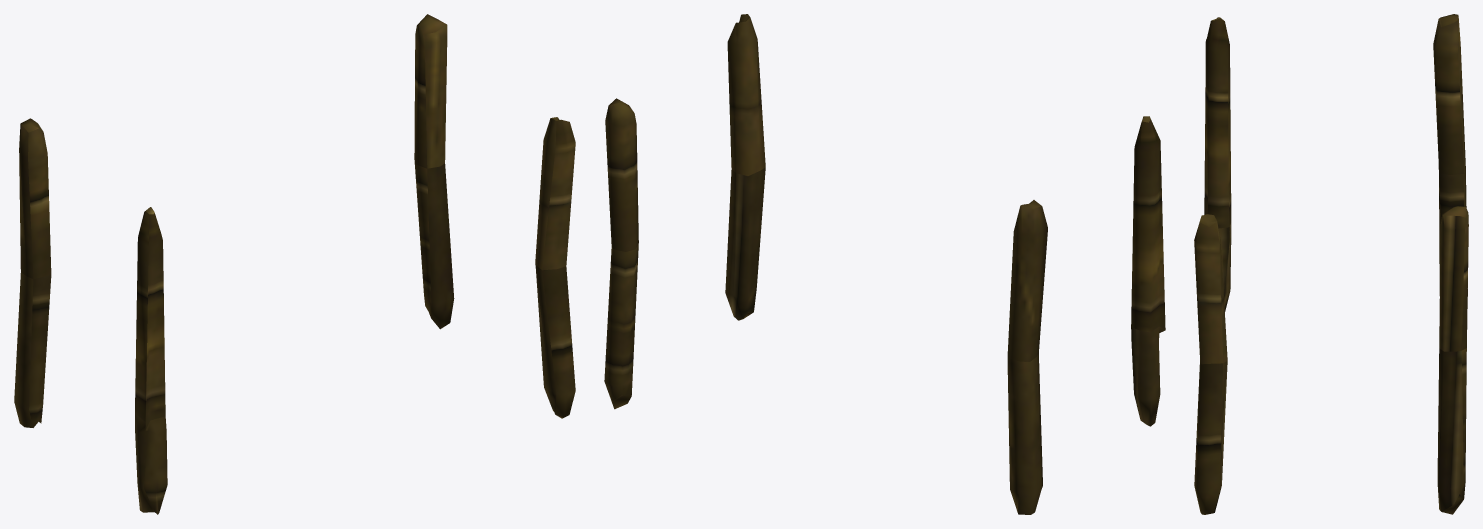
Rendered from pilar.fbx.
3 views of the same model, side by side, from view 1: azimuth 30°, elevation 25°; view 2: azimuth 150°, elevation 25°; view 3: azimuth 270°, elevation 25° (orthographic). The views are drawn at different scales.
Visible parts, largest first — view 1: Filar; view 2: Filar; view 3: Filar.
Part boxes in pixels (x1=…): Filar: x1=14, y1=14, x2=575, y2=514; Filar: x1=604, y1=14, x2=1165, y2=514; Filar: x1=1194, y1=14, x2=1468, y2=514.
Size of the model in its own units: 587 by 402 by 327.
